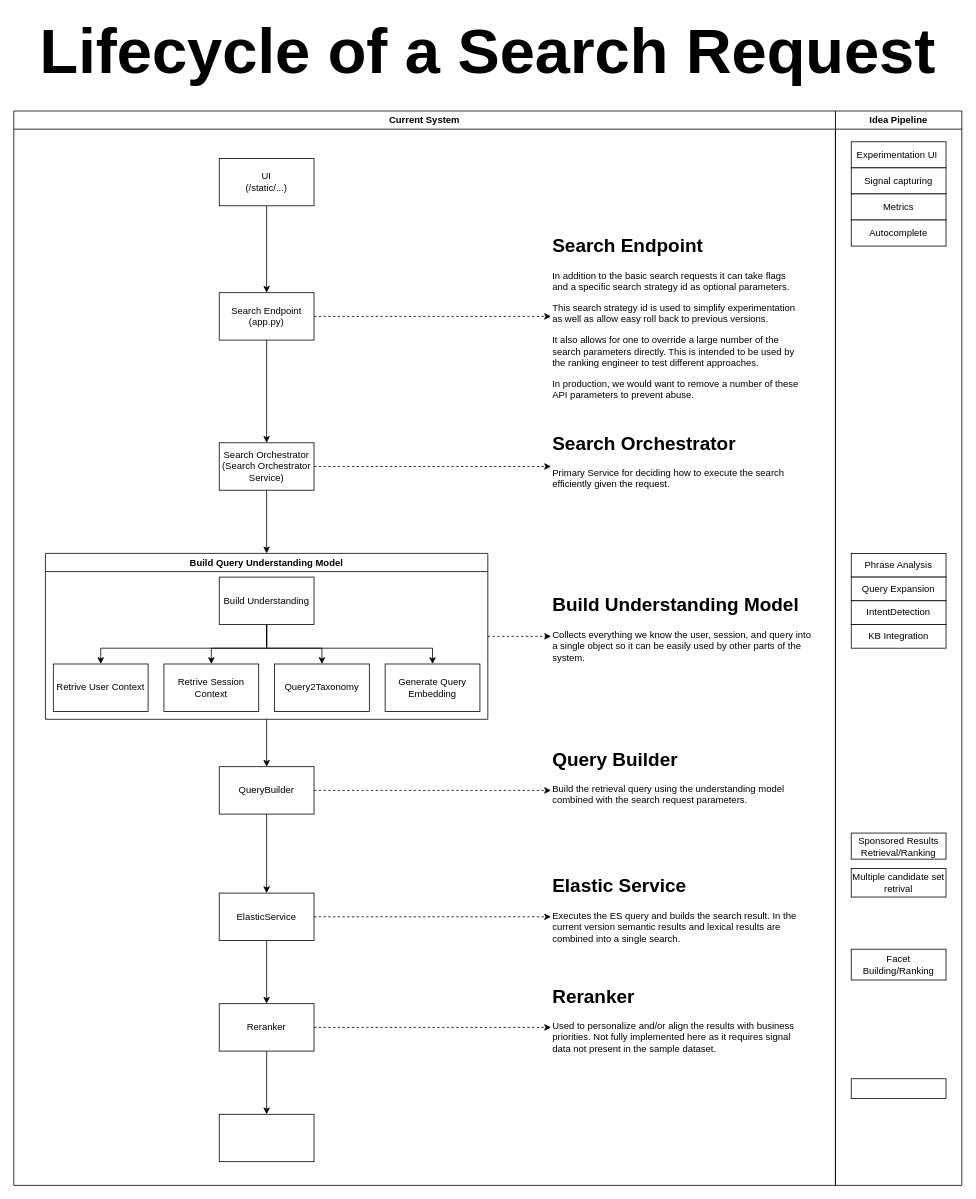
Some shapes in this 976 by 1199 pixel diagram are drawn without their labels. Each missing label, with the centre of its shape:
Result Hydration: [898,1088]
Return the results: [266,1138]
